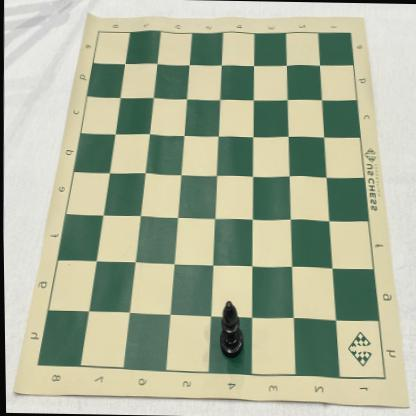black-bishop: (217, 300, 243, 358)
